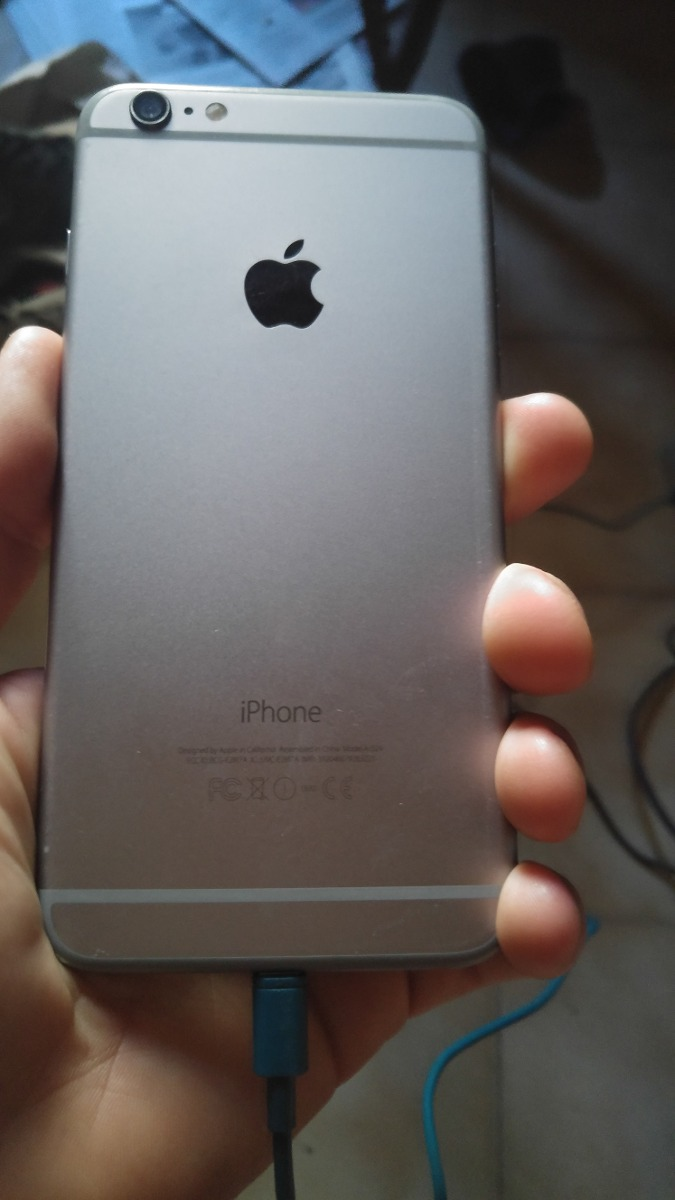apple: (215, 210, 353, 356)
